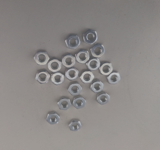nut: (65, 34, 81, 50), (83, 29, 98, 45), (34, 51, 50, 65), (62, 54, 76, 69), (36, 70, 50, 84), (48, 59, 62, 73), (65, 67, 79, 81), (91, 44, 105, 58), (76, 50, 90, 64), (90, 79, 104, 93), (107, 71, 121, 85), (57, 98, 72, 111), (68, 83, 83, 96), (80, 71, 95, 84), (46, 112, 60, 125), (51, 73, 65, 86), (73, 97, 87, 110), (87, 58, 101, 71), (100, 62, 113, 76), (97, 92, 110, 105), (69, 119, 82, 131)
